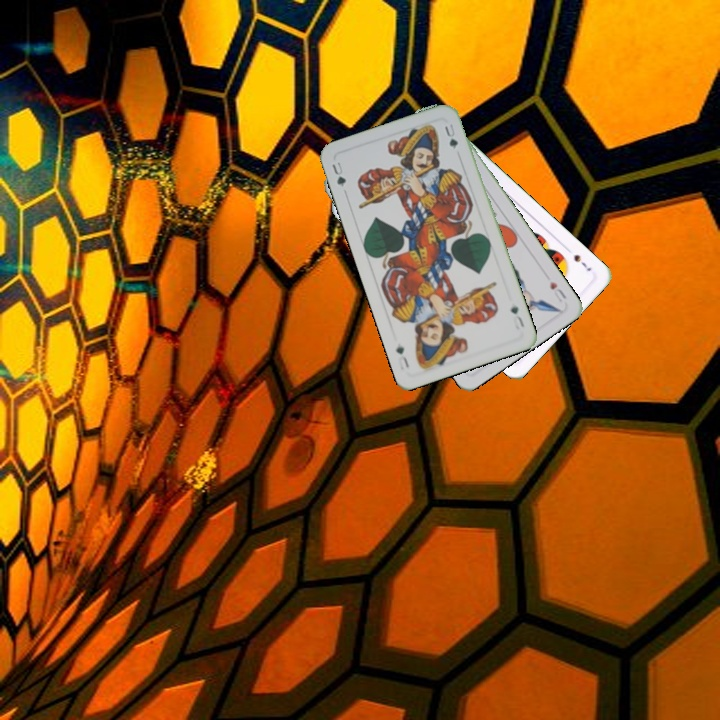GU: (328, 158, 349, 189), (506, 301, 527, 330)
HU: (546, 277, 569, 305)
S7: (570, 250, 594, 274)
